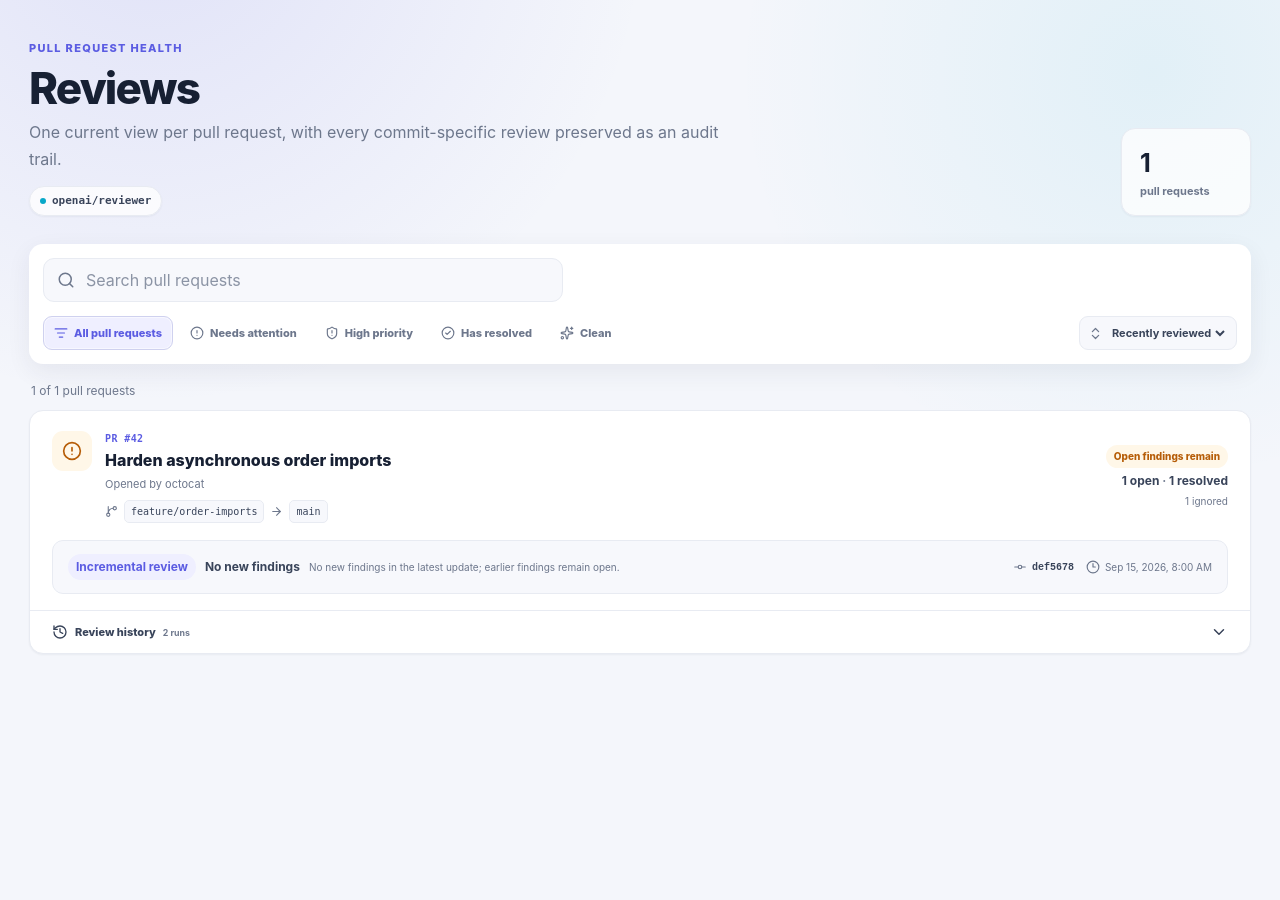
Test case: Reviews › expands the complete audit trail and links each snapshot to its detail
Click the button "Review history 2 runs".
click(115, 632)  # box [30,610,1250,653]
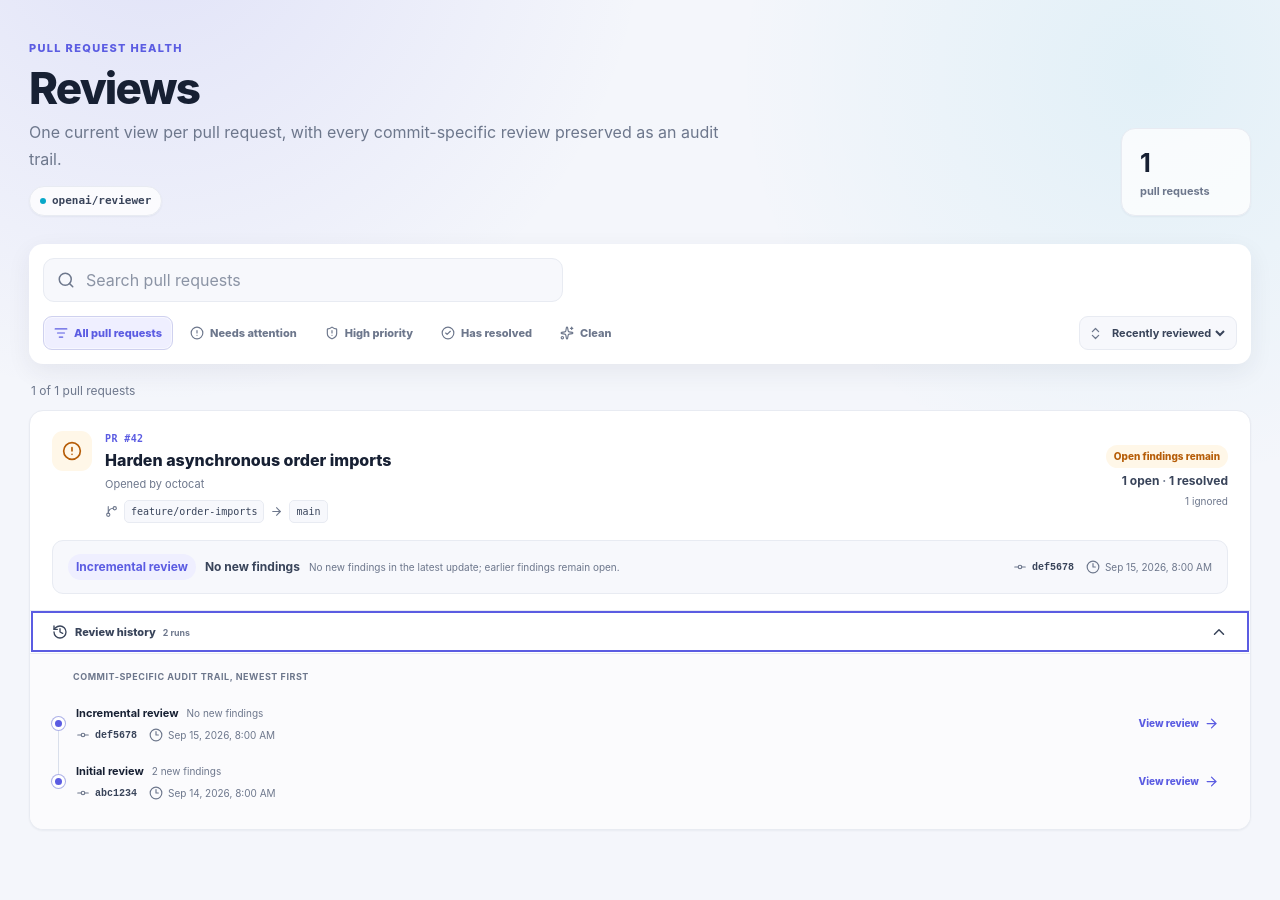
expect the button "Review history 2 runs" is expanded: met, box [30,610,1250,653]
expect the text "Initial review" is shown: met, box [76,763,144,780]
expect the 2nd text "Incremental review" is shown: met, box [76,705,179,722]
